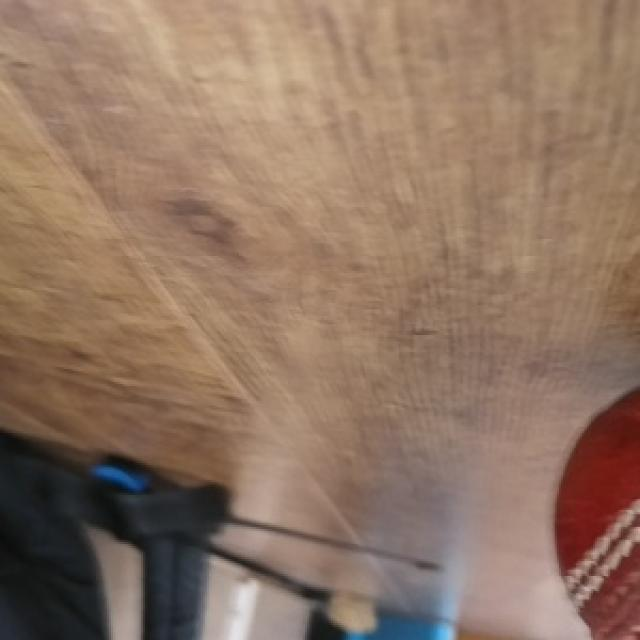ball: (555, 386, 640, 640)
